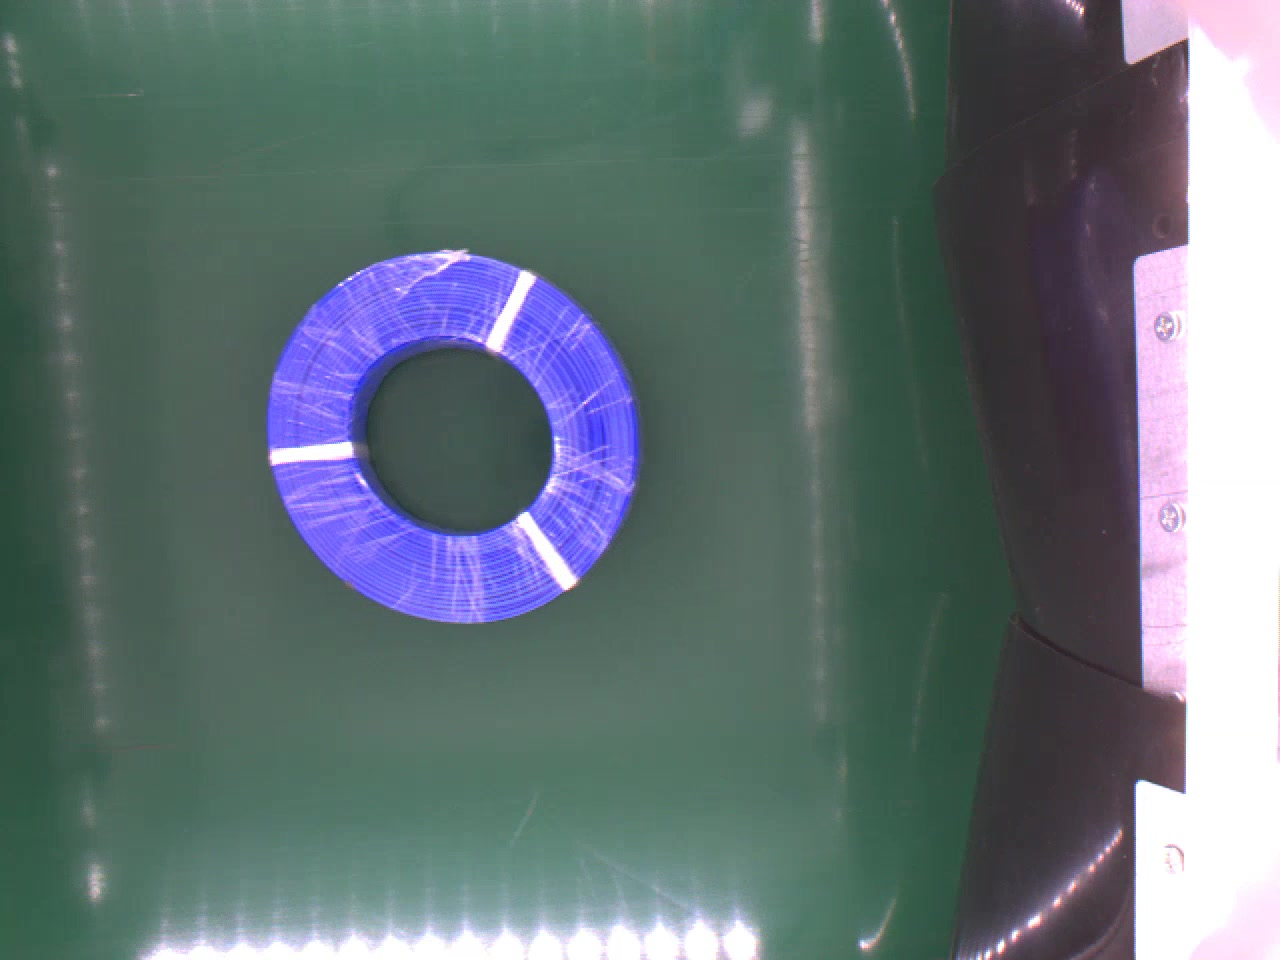blue: (263, 244, 640, 626)
